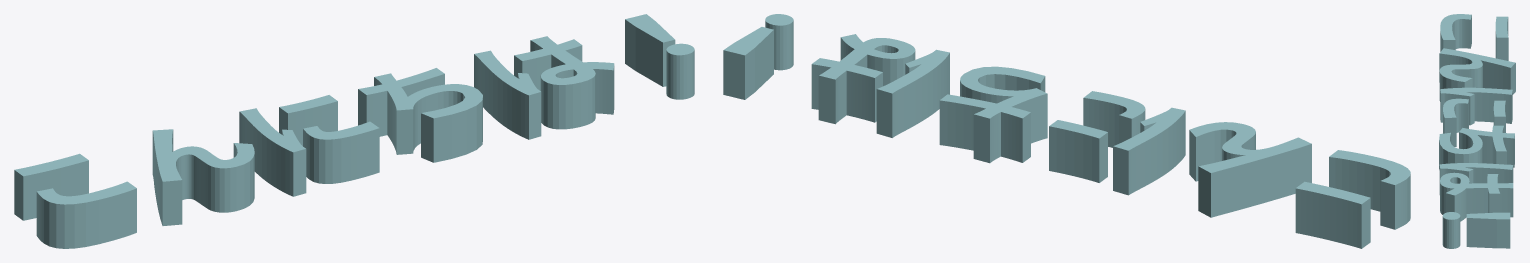
3 renders of one model, left to right at view 1: azimuth 30°, elevation 25°; view 2: azimuth 150°, elevation 25°; view 3: azimuth 270°, elevation 25°, orthographic. The views are drawn at different scales.
Visible parts, largest first — view 1: Mesh_Mesh_head_geo.001_lambert2SG.001; view 2: Mesh_Mesh_head_geo.001_lambert2SG.001; view 3: Mesh_Mesh_head_geo.001_lambert2SG.001.
Part boxes in pixels (<box>): Mesh_Mesh_head_geo.001_lambert2SG.001: <box>14,14,694,248</box>; Mesh_Mesh_head_geo.001_lambert2SG.001: <box>723,14,1410,248</box>; Mesh_Mesh_head_geo.001_lambert2SG.001: <box>1439,14,1515,248</box>.
Bounding box in the file's own units: 81 × 5.35 × 12.76.
